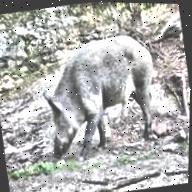boar: (21, 17, 175, 171)
